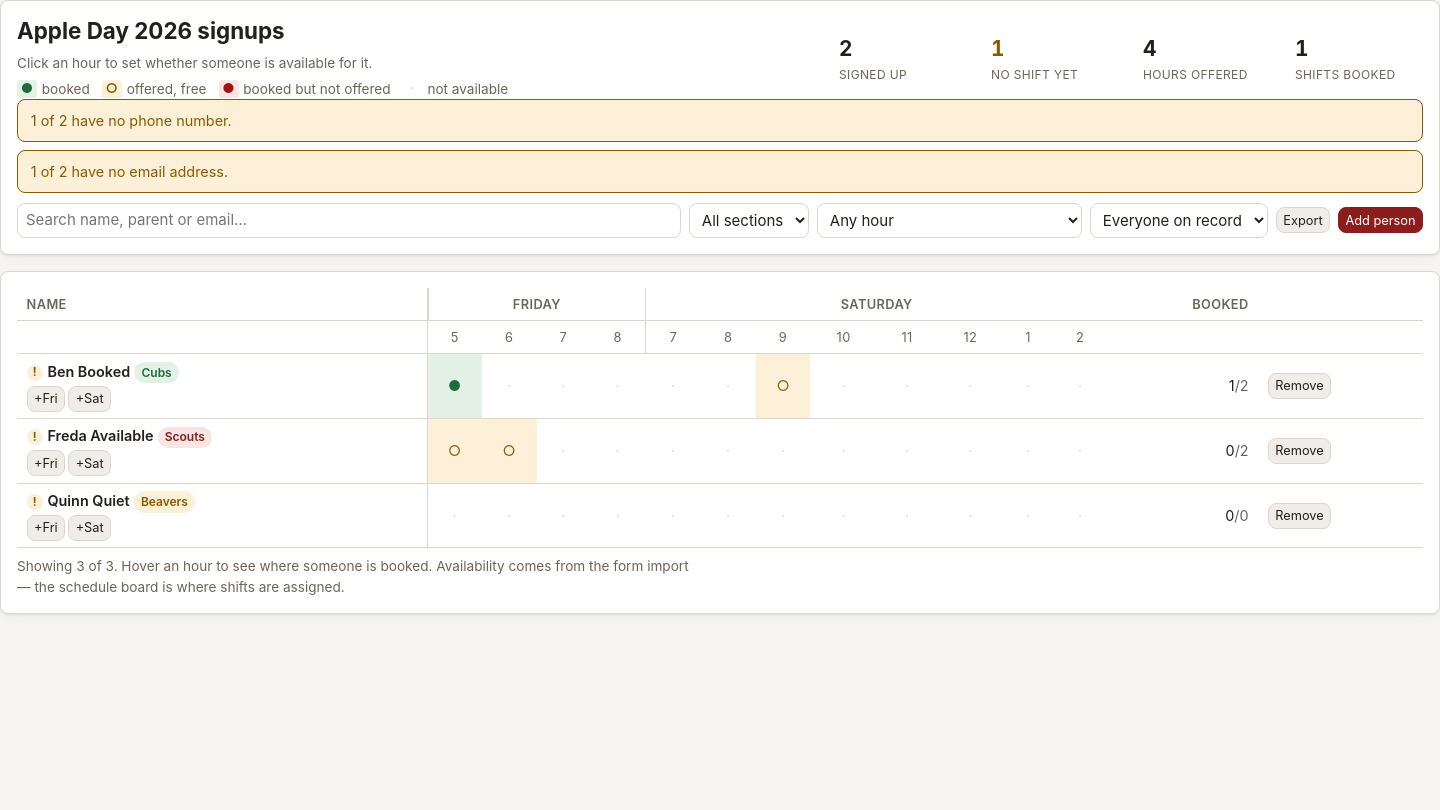
Test: filters › narrows to people free at a given hour
Select "Free at Sat 9:00 AM – 10:00 AM" in the dropdown named "Filter by availability" at (949, 220), box [817,203,1082,238]
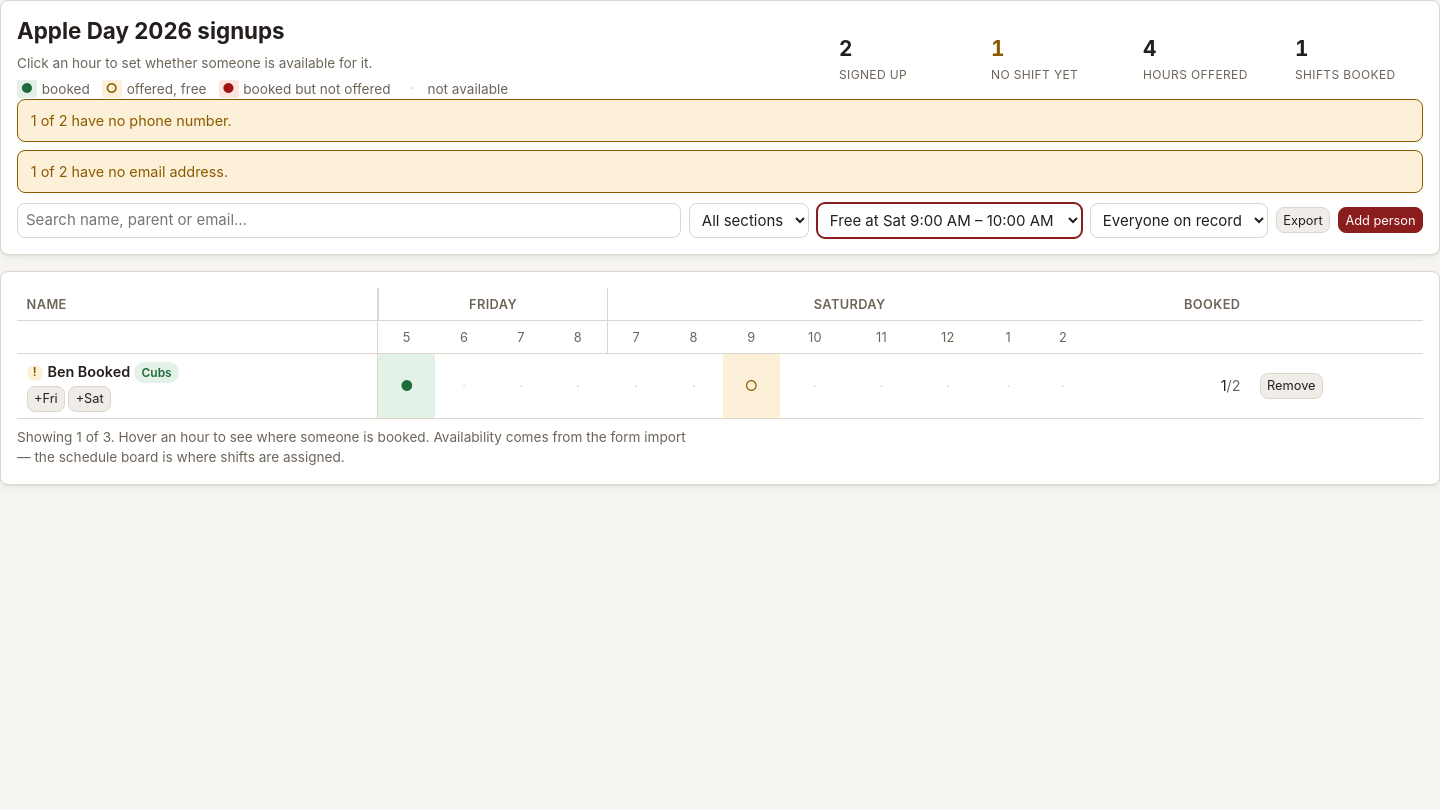
expect the link "Ben Booked" is shown: met, box [47,363,130,380]
expect the link "Freda Available" is gone: met
